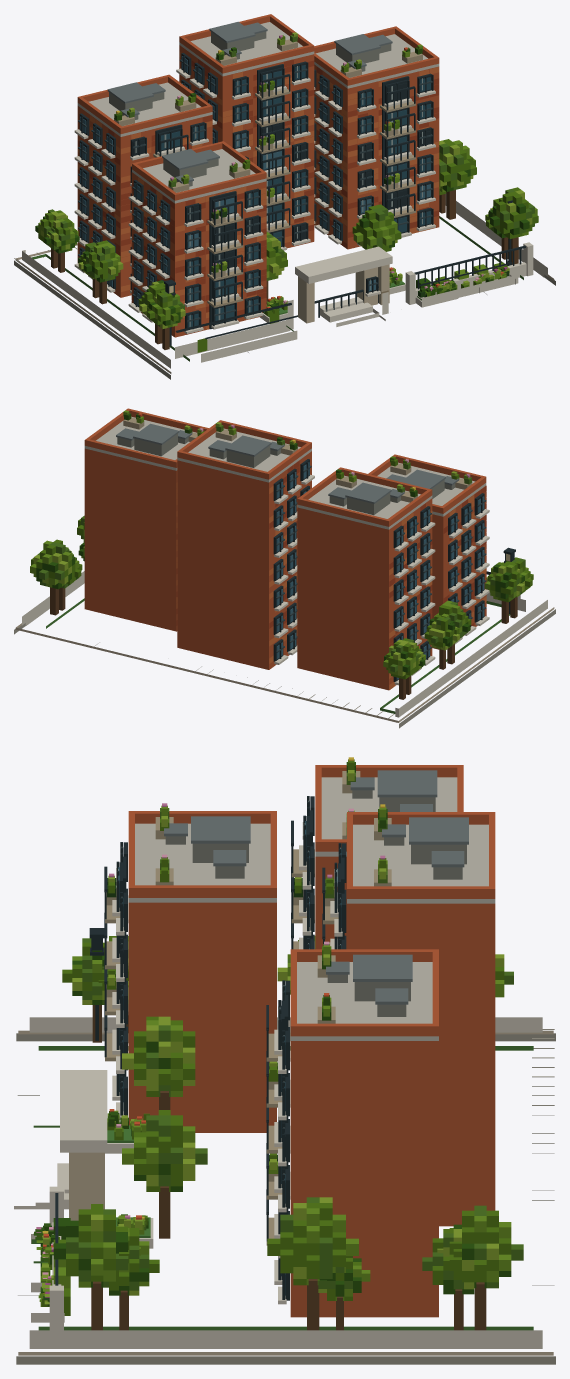
File: SM_StreetFrontage_021.fbx
3 renders of one model, top to bottom at view 1: azimuth 30°, elevation 25°; view 2: azimuth 150°, elevation 25°; view 3: azimuth 270°, elevation 25°, orthographic. The views are drawn at different scales.
Visible parts, largest first — view 1: SM_StreetFrontage_021; view 2: SM_StreetFrontage_021; view 3: SM_StreetFrontage_021.
Part boxes in pixels (<box>): SM_StreetFrontage_021: <box>14,14,555,379</box>; SM_StreetFrontage_021: <box>14,408,555,728</box>; SM_StreetFrontage_021: <box>14,757,555,1364</box>.
Size of the model in its own units: 32 by 22.4 by 16.73.
